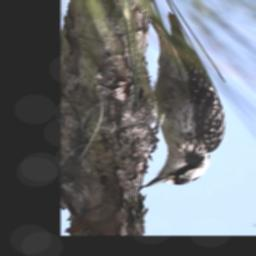Woodpecker: (134, 3, 233, 198)
